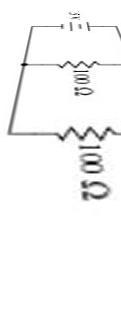Battery: (50, 6, 96, 43)
